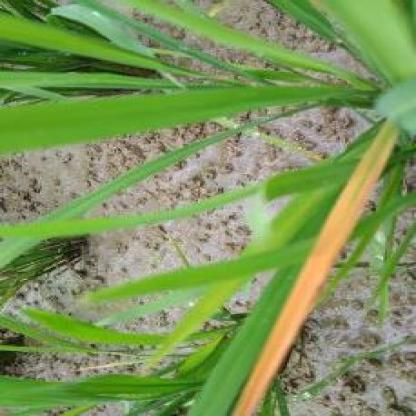Tungro: (228, 115, 402, 416)
